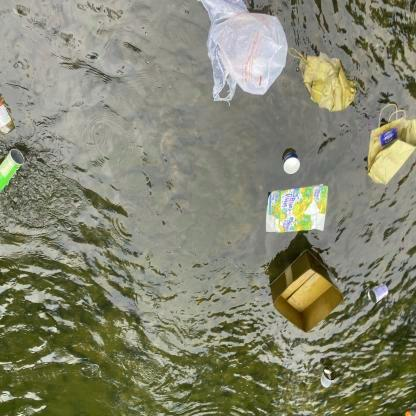Glass: (0, 93, 18, 141)
Metal: (0, 143, 27, 196), (366, 278, 391, 306)
Plastic: (194, 0, 292, 109), (316, 366, 342, 392), (402, 399, 416, 416)
Trash: (287, 38, 360, 113), (362, 100, 416, 189), (280, 149, 304, 182)
